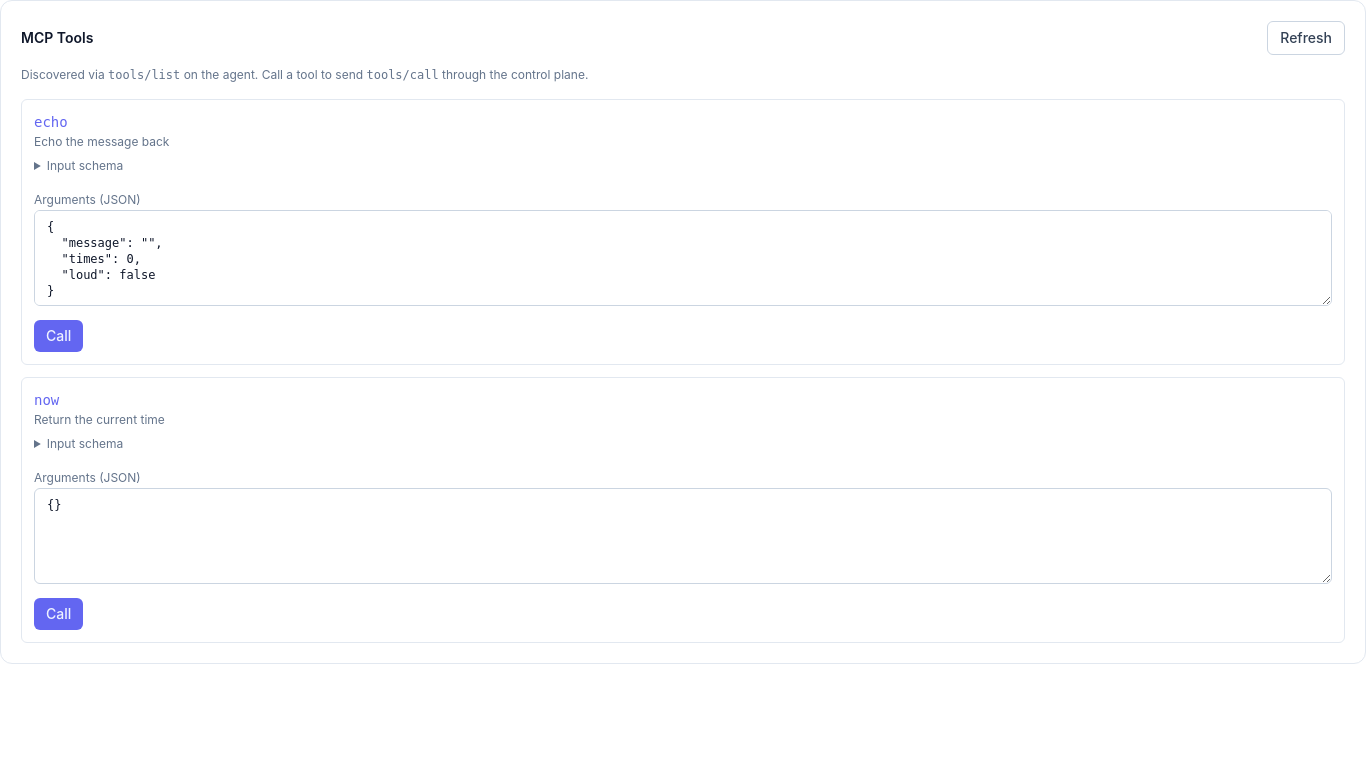
MCPTools › renders non-text content blocks as JSON
Expected: the text "echo" is shown, [34,114,68,130]
What coordinates should you click on to do the following:
click the button "Call" below "Echo the message back"
I would click on:
 (59, 336)
Its box is [34,320,83,352].
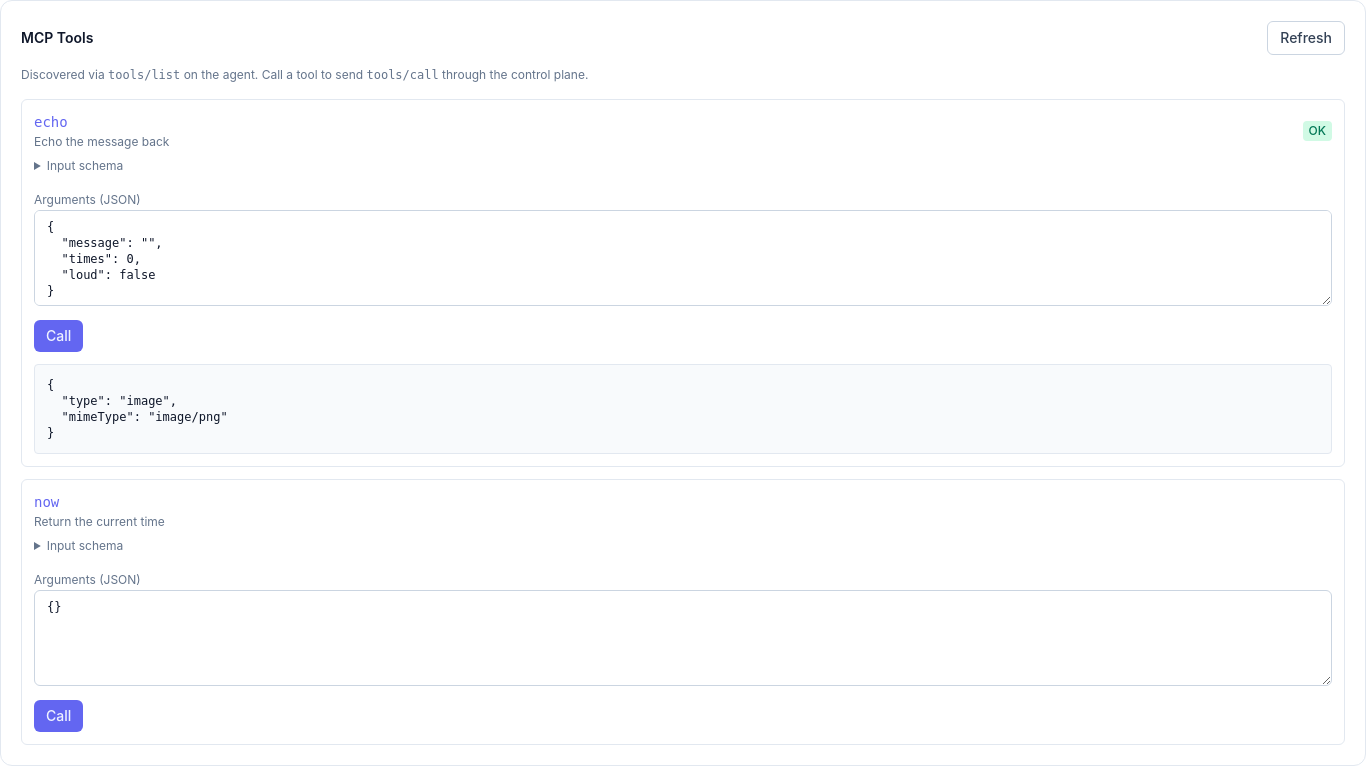
Now the text "{ \"type\": \"image\", \"mimeType\": \"image/png\" }" is shown, box [34,364,1332,454]
